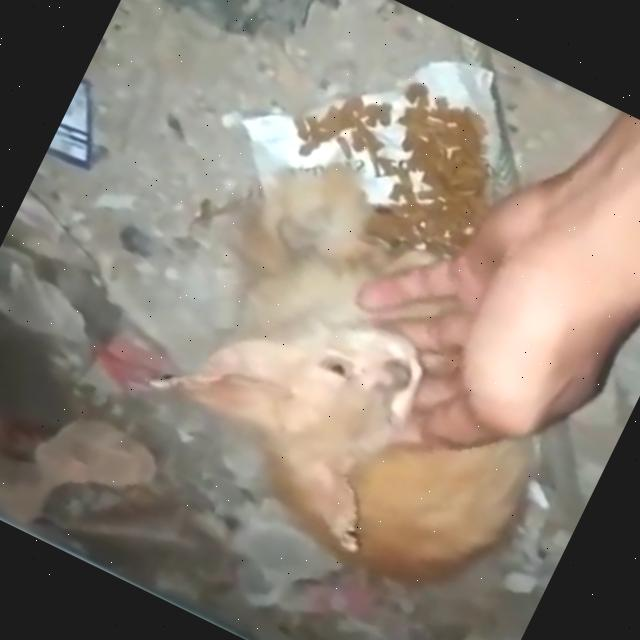cat-scabies: (146, 324, 292, 448), (286, 452, 406, 562)
